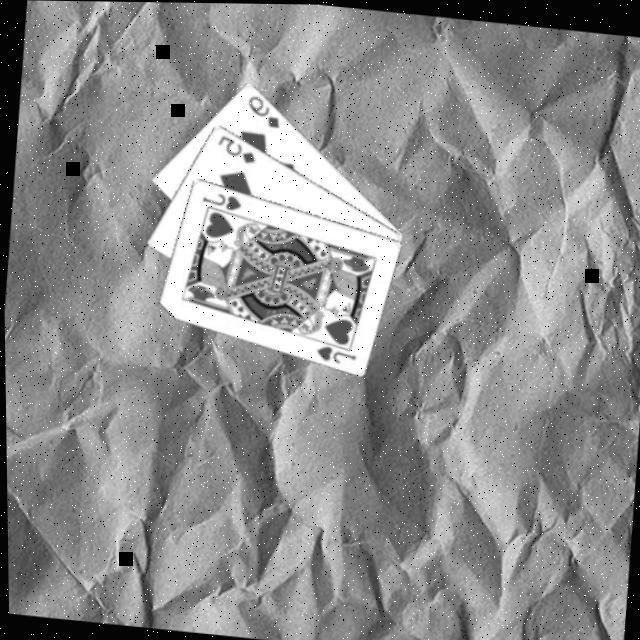5D: (211, 128, 259, 165)
9D: (241, 88, 282, 127)
JH: (196, 185, 243, 212), (310, 338, 357, 365)
